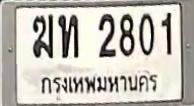0: (138, 12, 154, 56)
1: (160, 12, 172, 55)
2: (98, 13, 116, 56)
8: (119, 13, 134, 56)
A06: (32, 14, 53, 57)
A23: (57, 13, 78, 58)
BKK: (37, 70, 159, 97)
